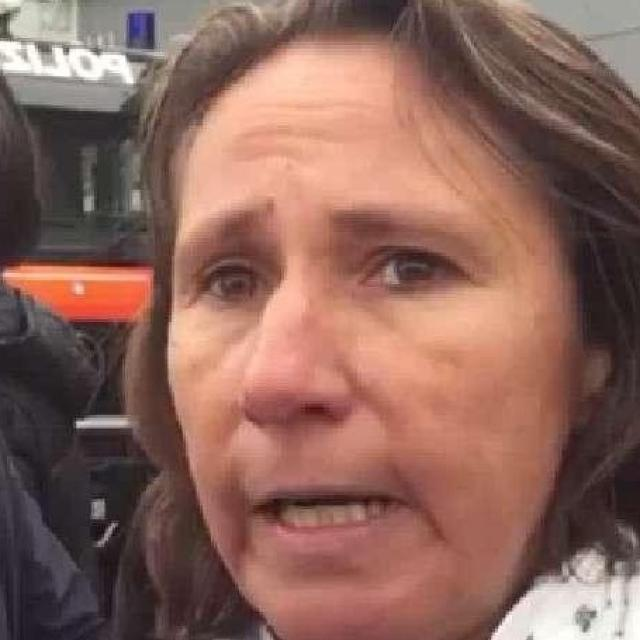Depress: (162, 33, 573, 639)
